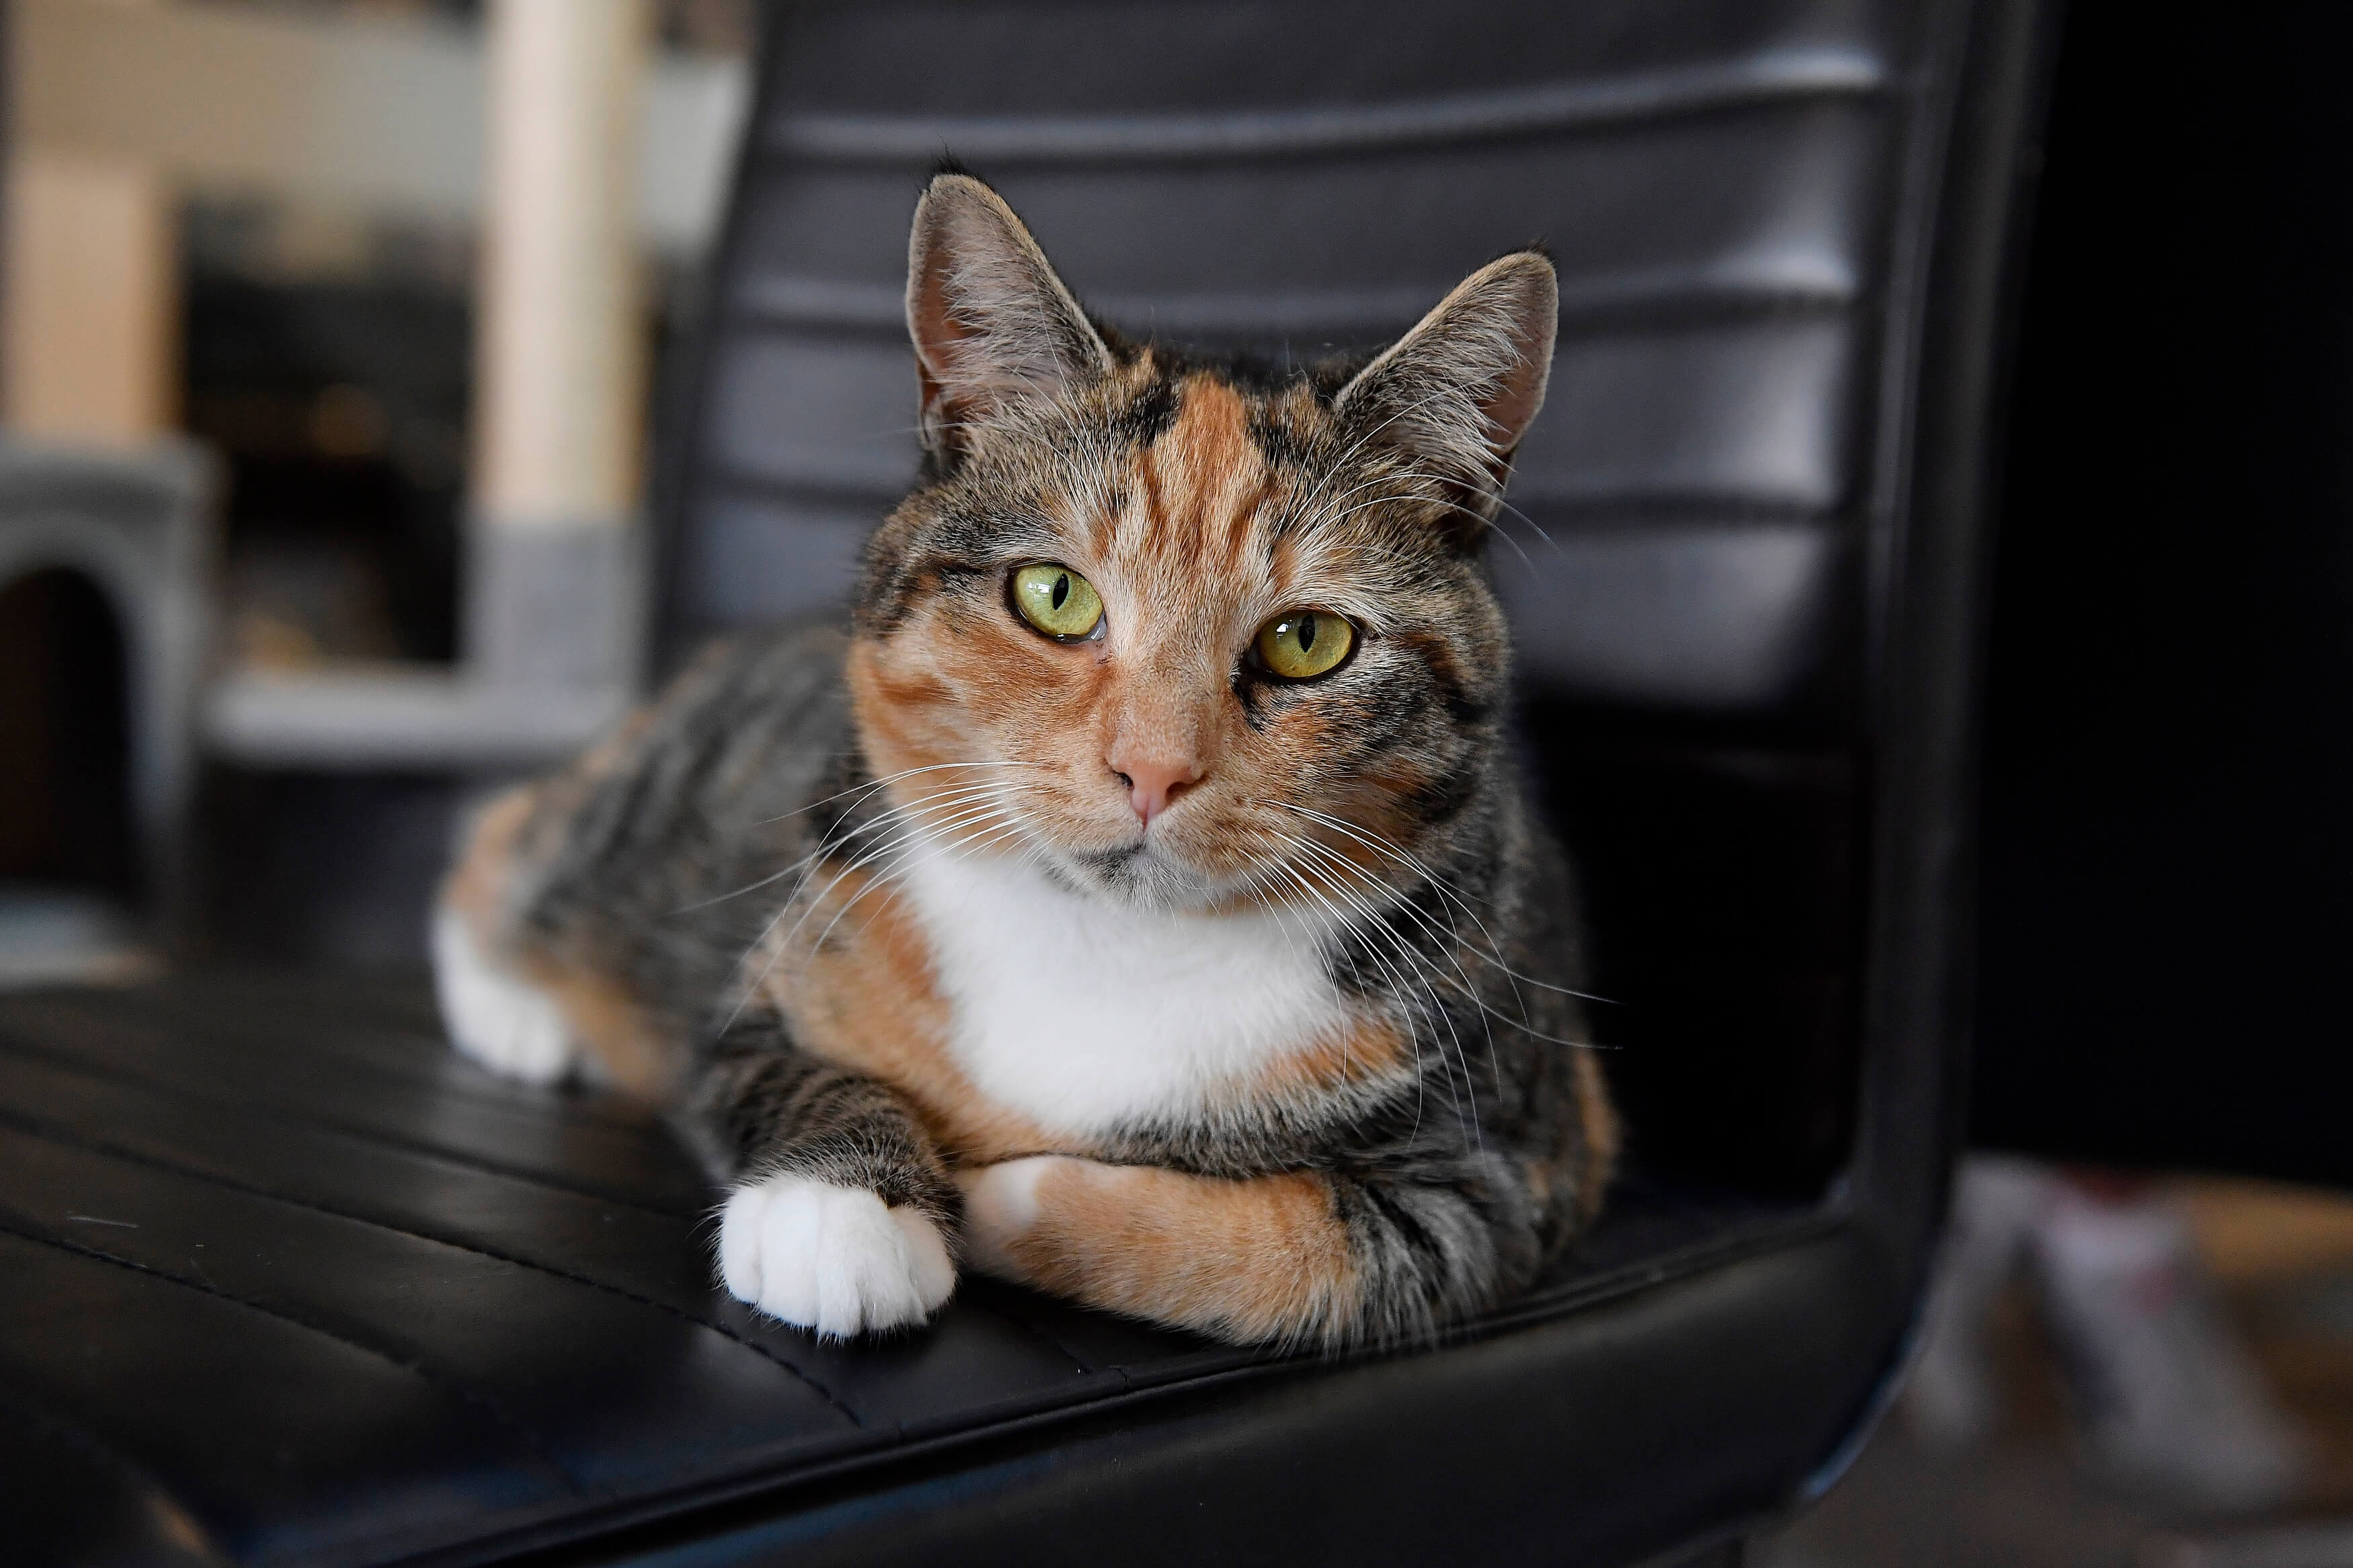cat: (382, 156, 1637, 1365)
